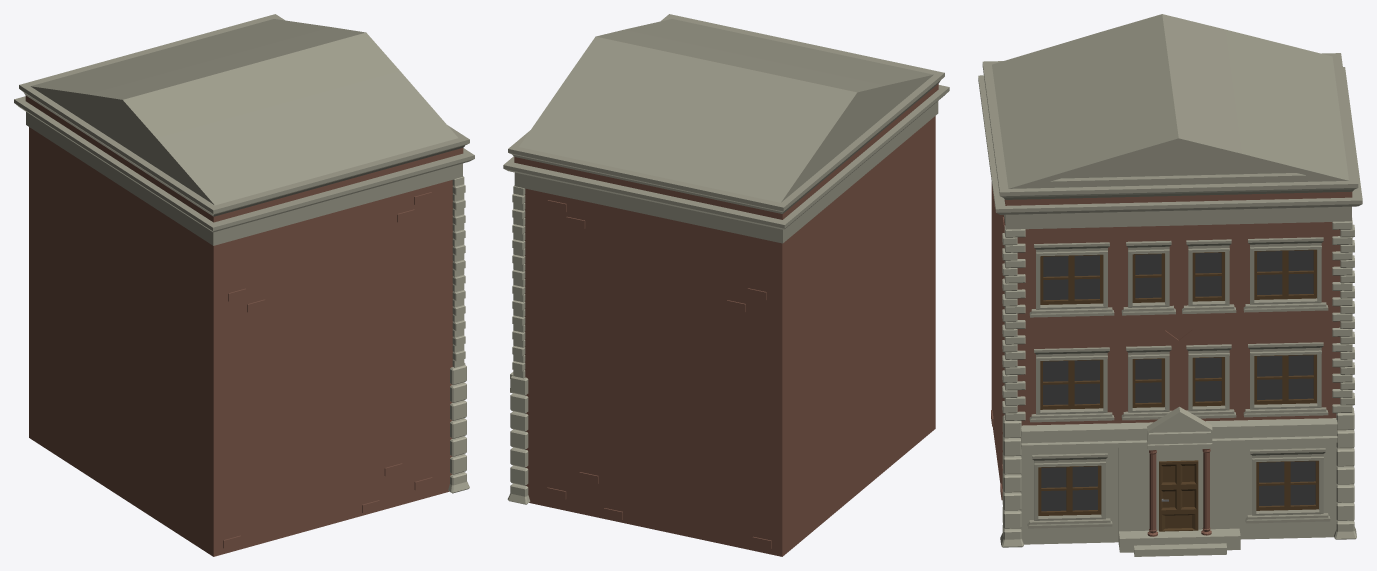
File: building3_big_lev3.glb
The picture shows the model from 3 angles, left to right: view 1: azimuth 30°, elevation 25°; view 2: azimuth 150°, elevation 25°; view 3: azimuth 270°, elevation 25°; orthographic projection.
Visible parts, largest first — view 1: building3_big_lev3; view 2: building3_big_lev3; view 3: building3_big_lev3.
Boxes of the visible parts, <box> form: building3_big_lev3: <box>14,14,474,556</box>; building3_big_lev3: <box>503,14,949,556</box>; building3_big_lev3: <box>978,14,1362,556</box>.
Bounding box in the file's own units: 8.08 × 10.09 × 8.75.
